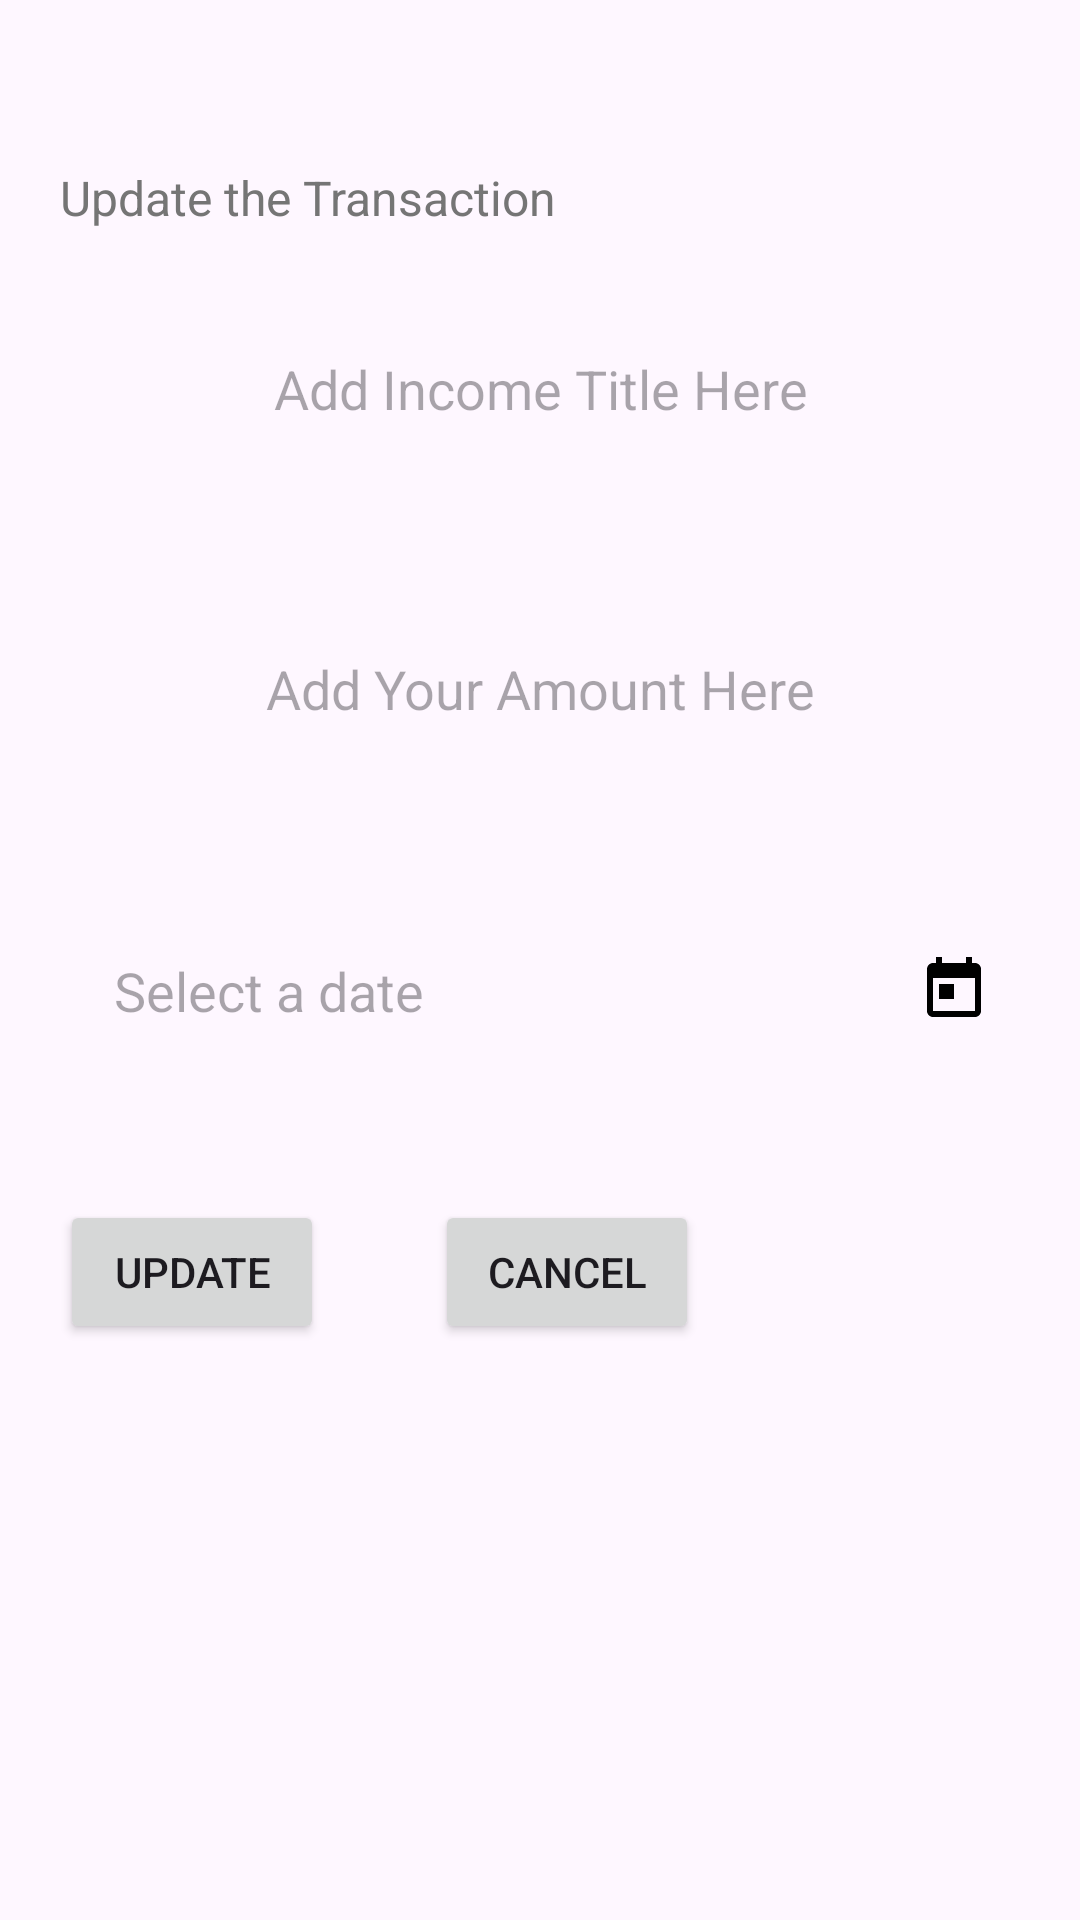

Named icons in this screenshot (1080x1920) and their bounding boxes, BBox(x1, y1, x2, y2):
calendar: BBox(927, 957, 981, 1017)
